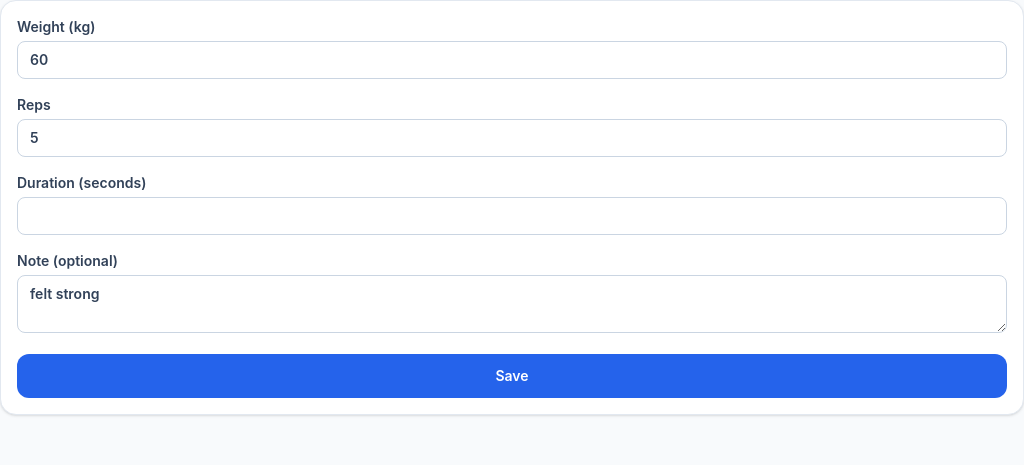
ExerciseCapabilityForm › shows an error state, with message, when the save fails
Clear the number field labelled "Weight (kg)" at x=512, y=60, box top-left (17, 41), bottom-right (1007, 79)
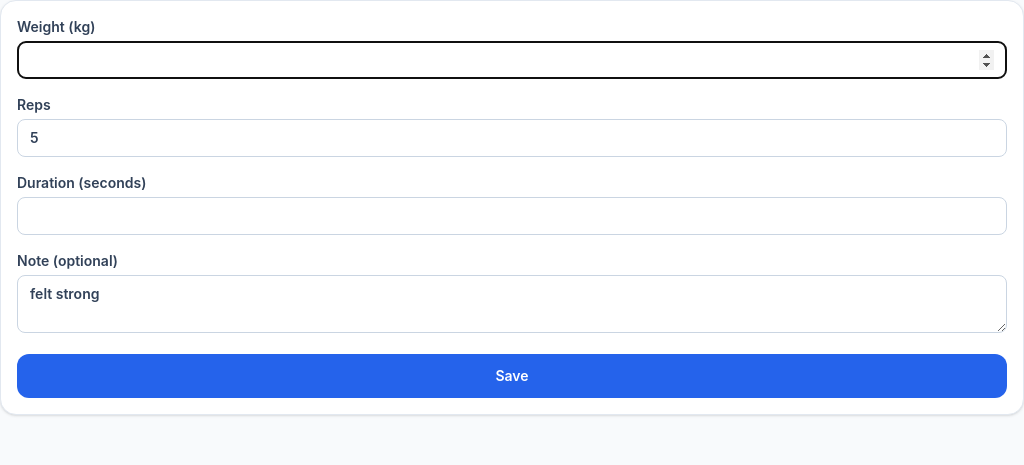
Clear the number field labelled "Reps" at x=512, y=138, box top-left (17, 119), bottom-right (1007, 157)
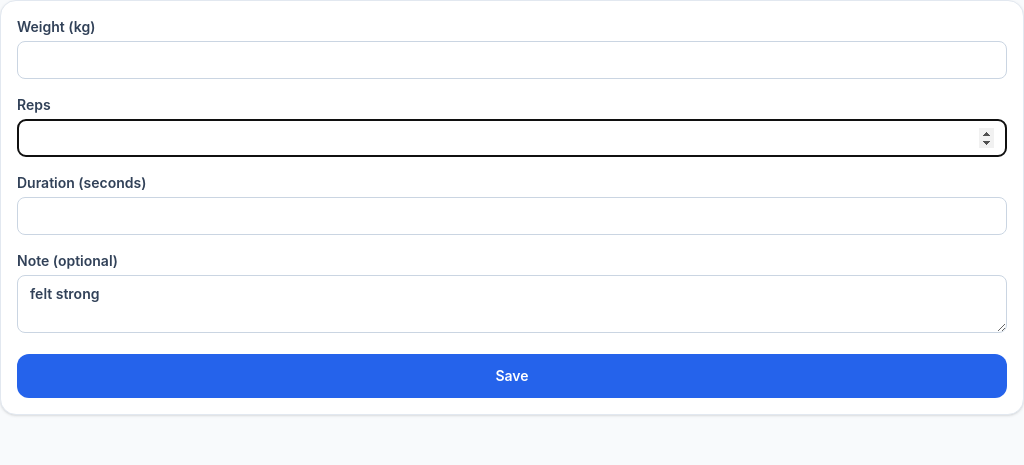
Click the button "Save" at x=512, y=376, box top-left (17, 354), bottom-right (1007, 398)
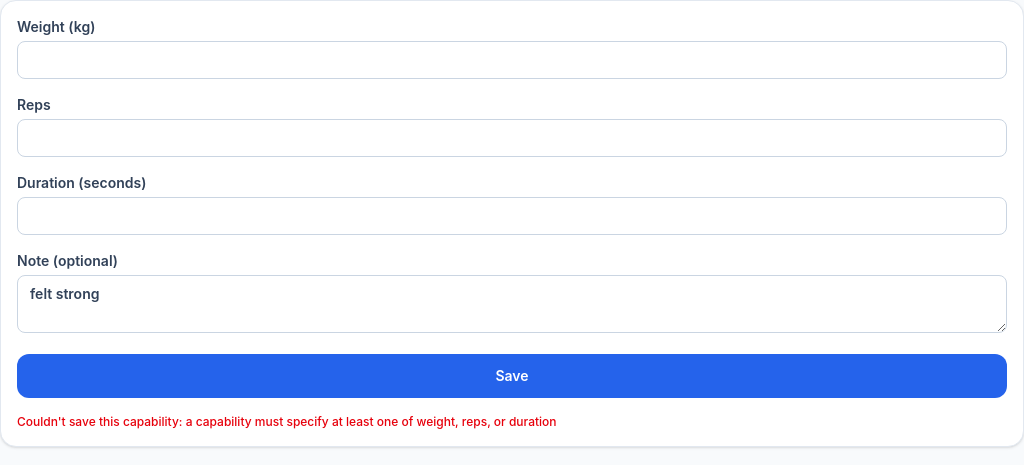
Check: the text "Couldn't save this capability" is shown, box top-left (17, 414), bottom-right (179, 429)
Check: the text "at least one of weight, reps, or duration" is shown, box top-left (179, 414), bottom-right (556, 429)
